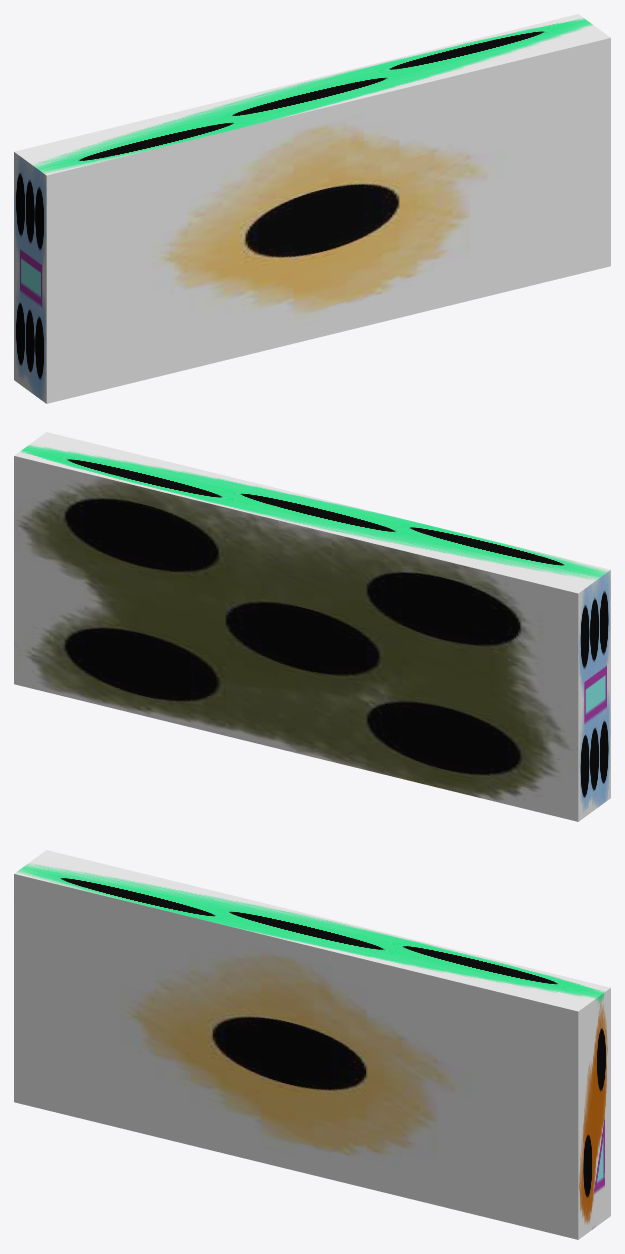
Rendered from M_Block.fbx.
3 views of the same model, one above another, from view 1: azimuth 30°, elevation 25°; view 2: azimuth 150°, elevation 25°; view 3: azimuth 330°, elevation 25° (orthographic).
Parts seen in each view (by area): view 1: M_Block; view 2: M_Block; view 3: M_Block.
Part boxes in pixels (box(x1,y1,x2,y2)): M_Block: box(14, 14, 610, 403); M_Block: box(14, 432, 610, 821); M_Block: box(14, 850, 610, 1239).
Bounding box in the file's own units: 240 × 92.8 × 24.
